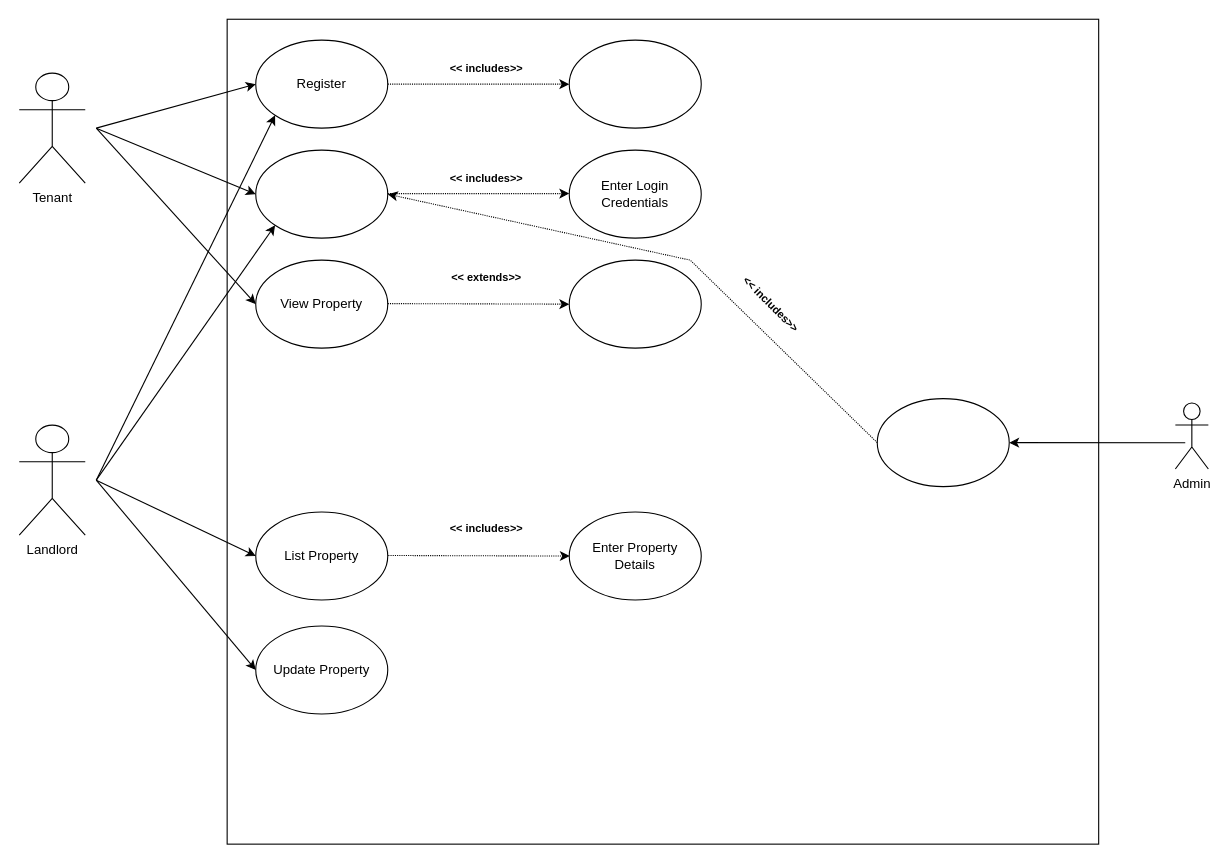
This 1230x864 diagram has some shape labels left out. The centre of each missing label's shape, as x and y in pixels:
"Buy Property" belongs at [634,303].
"Enter Details" belongs at [634,83].
"Login" belongs at [321,193].
"Moniters" belongs at [942,442].
